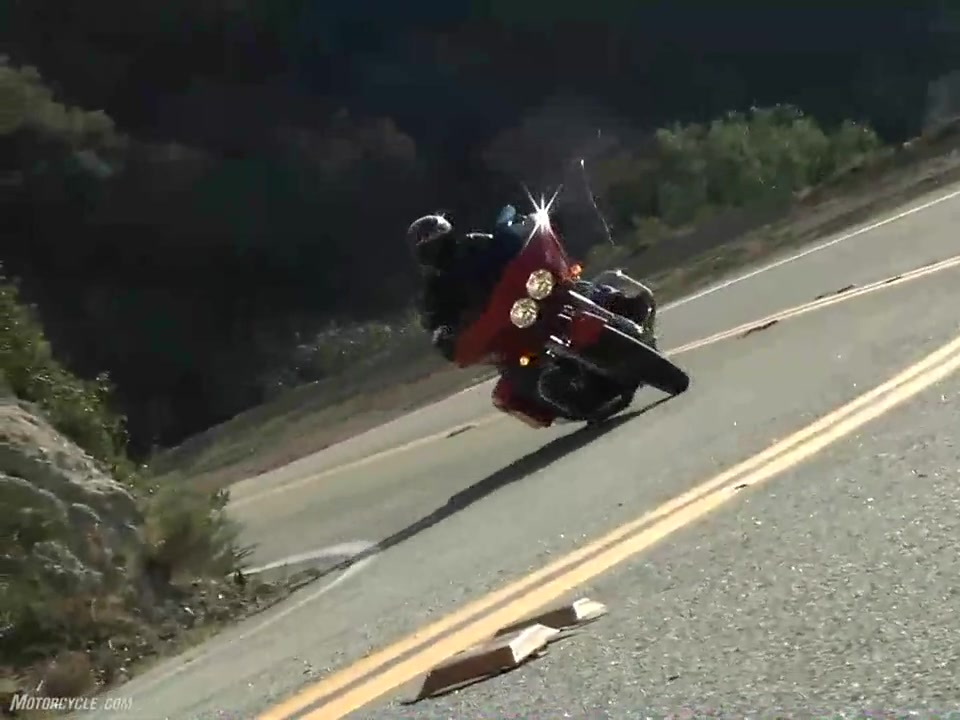motorbike: (425, 190, 692, 454)
